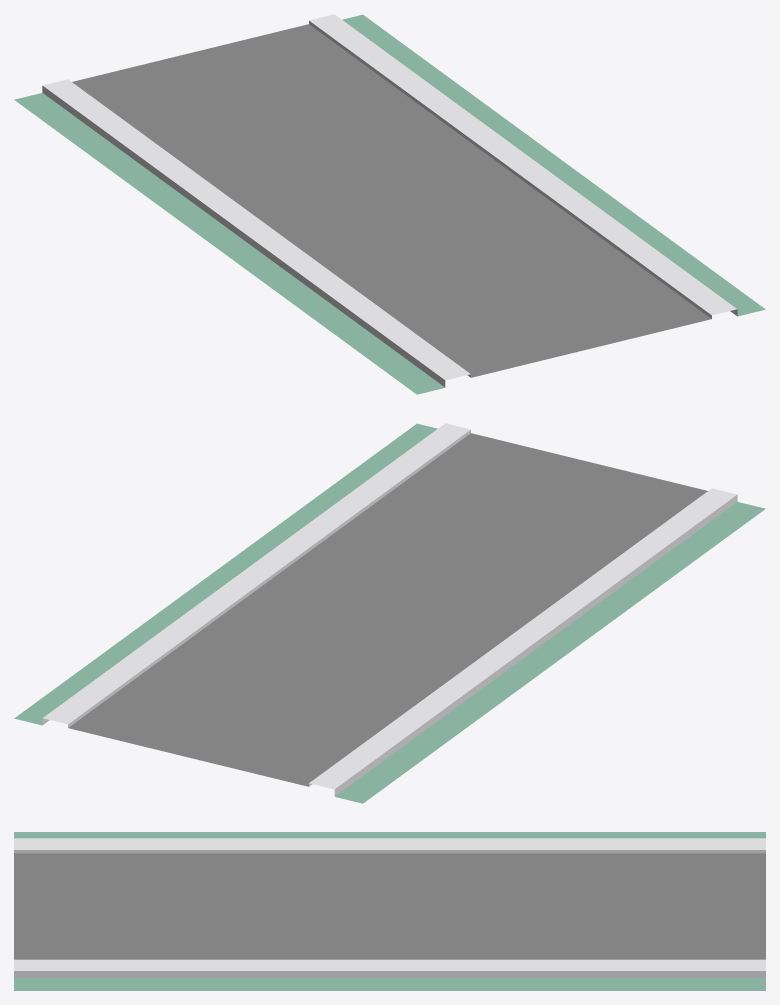
The model's file is roadStraightLong.glb.
3 renders of one model, top to bottom at view 1: azimuth 30°, elevation 25°; view 2: azimuth 150°, elevation 25°; view 3: azimuth 270°, elevation 25°, orthographic. The views are drawn at different scales.
Parts seen in each view (by area): view 1: roadStraightLong; view 2: roadStraightLong; view 3: roadStraightLong.
Boxes of the visible parts, <box> form: roadStraightLong: <box>14,14,765,394</box>; roadStraightLong: <box>14,423,765,803</box>; roadStraightLong: <box>14,832,765,990</box>.
Size of the model in its own units: 1.48 by 0.0295 by 2.95.
